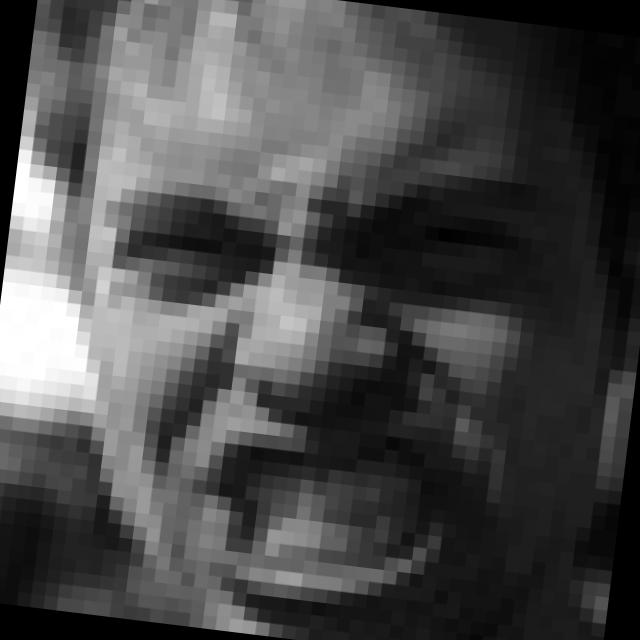angry: (48, 121, 564, 638)
